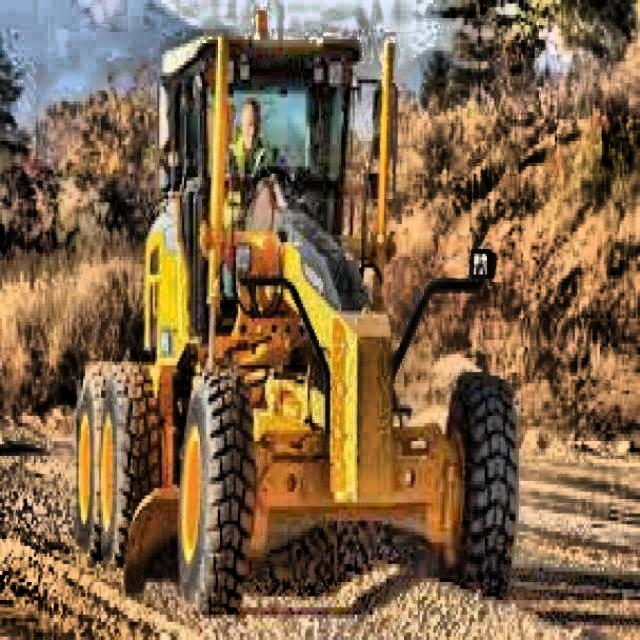bull_dozer/loader/grader: (72, 6, 520, 630)
person: (226, 96, 293, 224)
